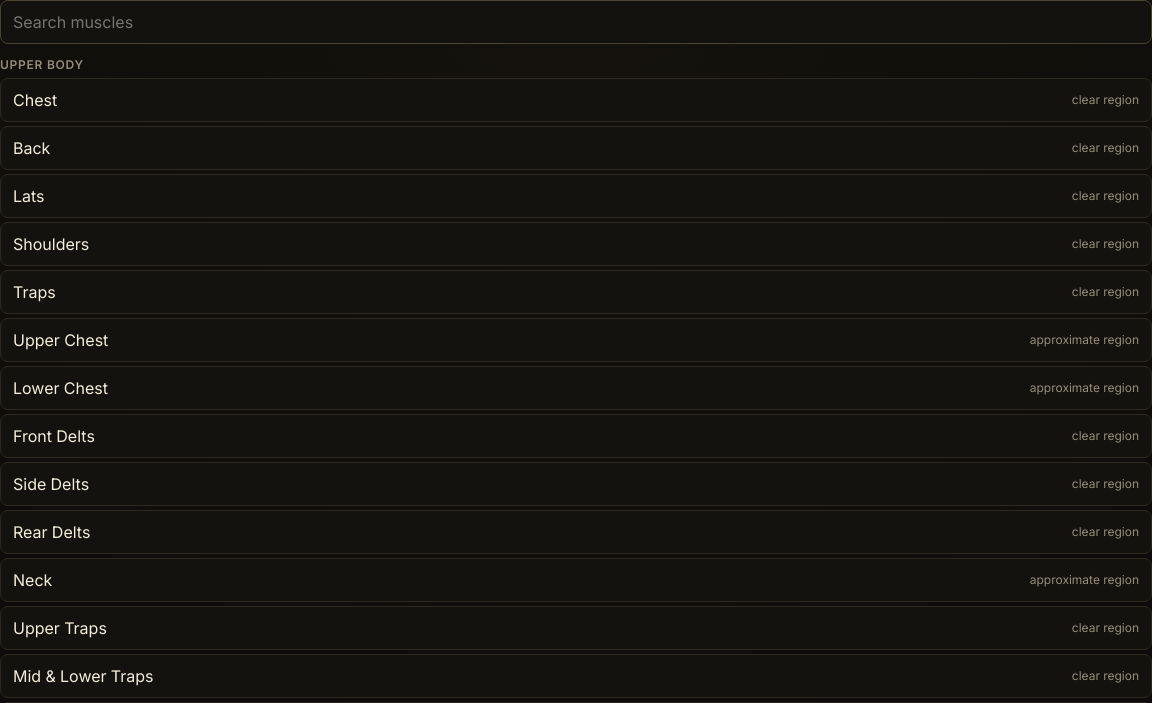
Test: MuscleChips (text twin) › lists all 34 muscles grouped, each with a tier label; search filters
Type "delts" into the search field with placeholder "Search muscles" at (576, 22), box [0,0,1151,44]
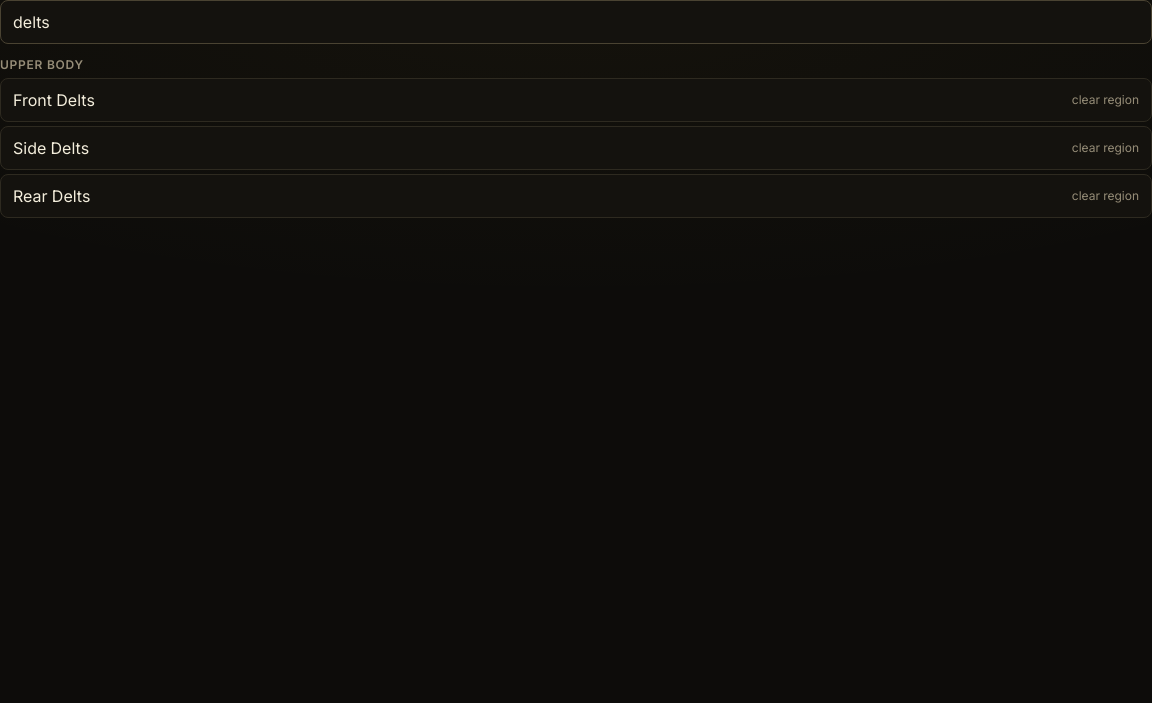
Replace the text in the search field named "Search muscles" with "zzzz" at (576, 22), box [0,0,1151,44]
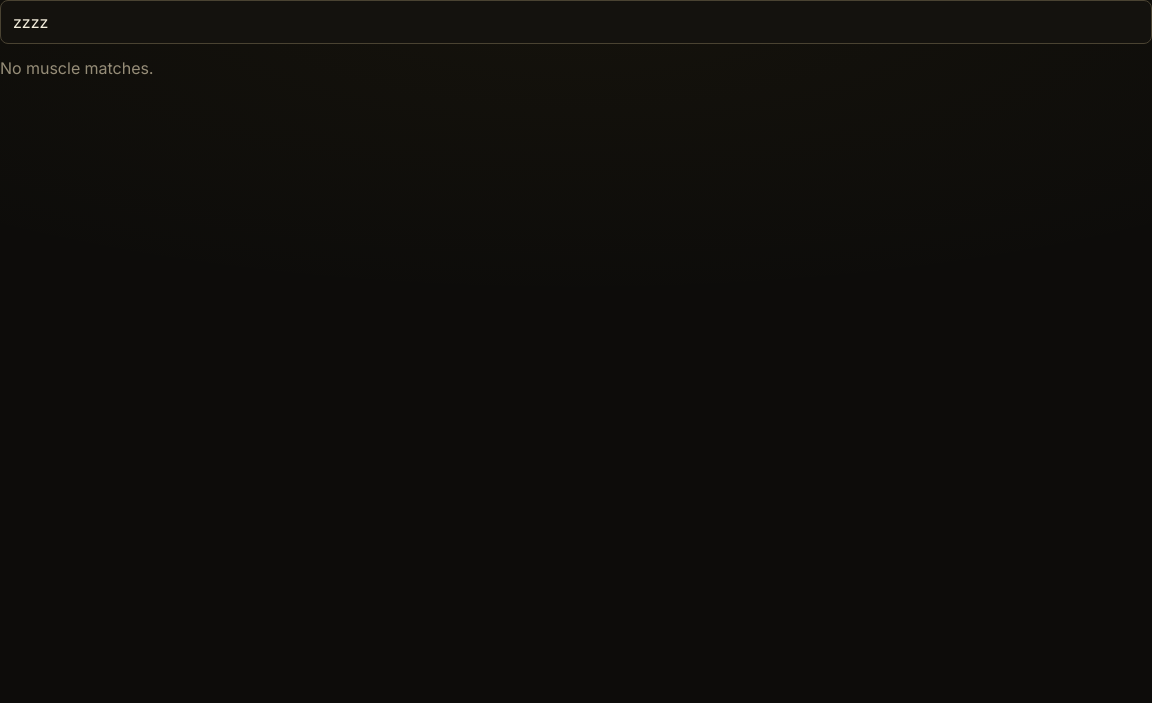
expect the text "No muscle matches." is shown: met, box [0,58,153,78]
